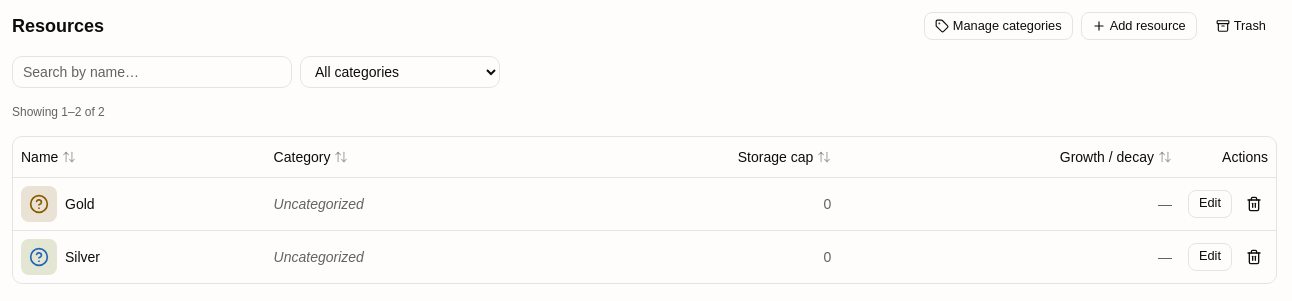
Test: ResourcesConfigPanel › narrows results via the search input
Expected: the text "Gold" is shown, [65,194,95,214]
Expected: the text "Silver" is shown, [65,246,100,266]
In the field named "Search resources by name": (152, 72) [12,56,292,88], type "Gol"
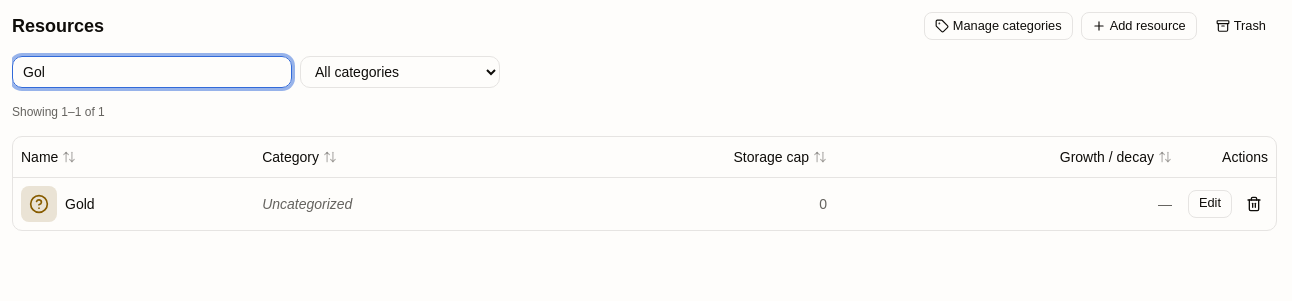
Expected: the text "Gold" is shown, [65,194,95,214]
Expected: the text "Silver" is gone
